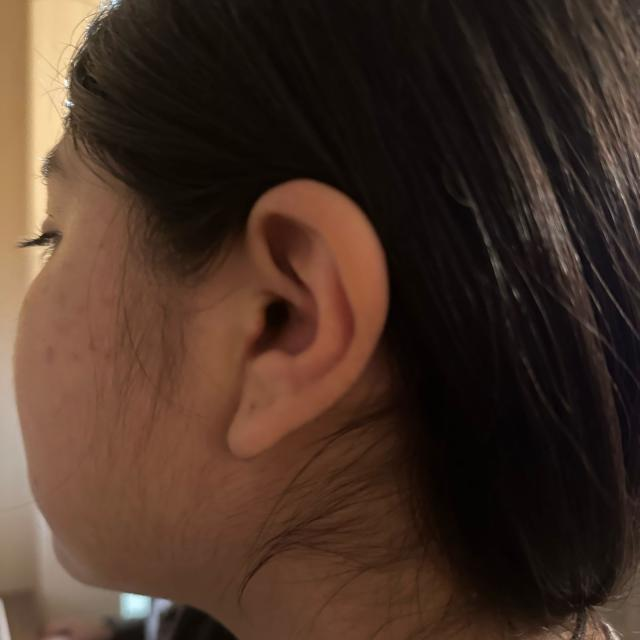ear: (228, 180, 389, 456)
